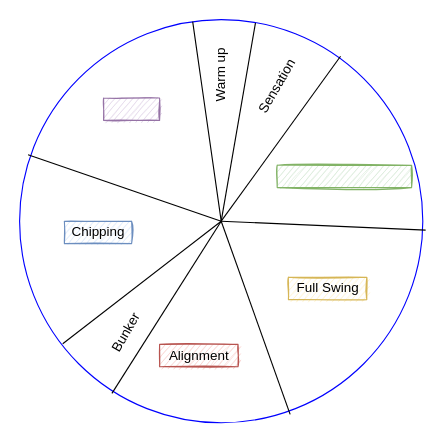
Some shapes in this 447 by 442 pixel diagram are drawn without their labels. Here are the shapes that lost their labels. From the top down, the centre of each, then its label:
At pixel 131 108: "Putting".
At pixel 344 176: "Rythm".
